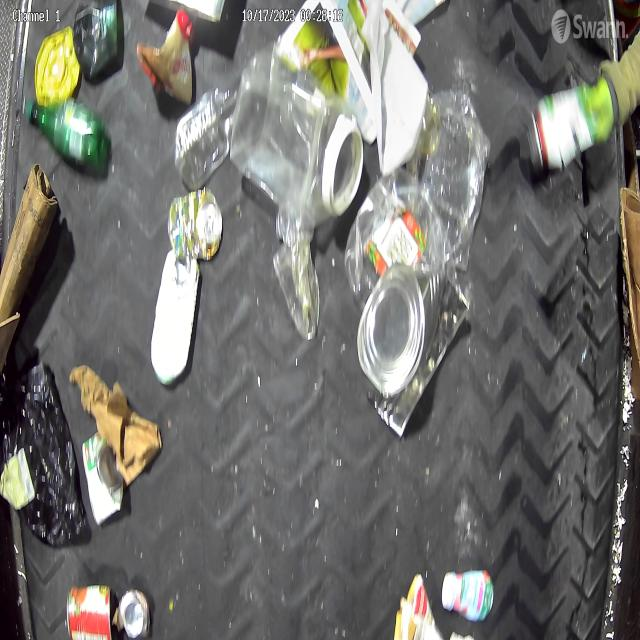can: (358, 262, 470, 439), (166, 188, 224, 263), (81, 432, 124, 528), (64, 582, 112, 640), (116, 587, 151, 640)
